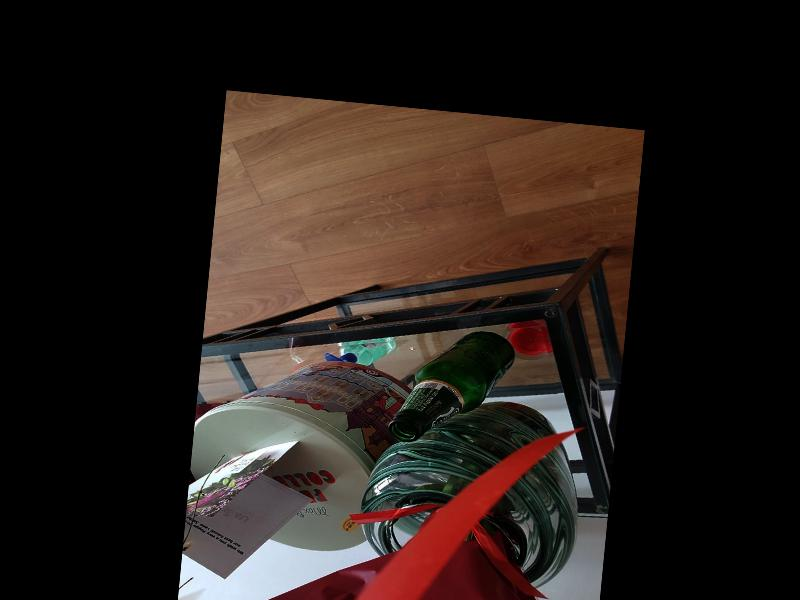Beer: (388, 323, 518, 451)
